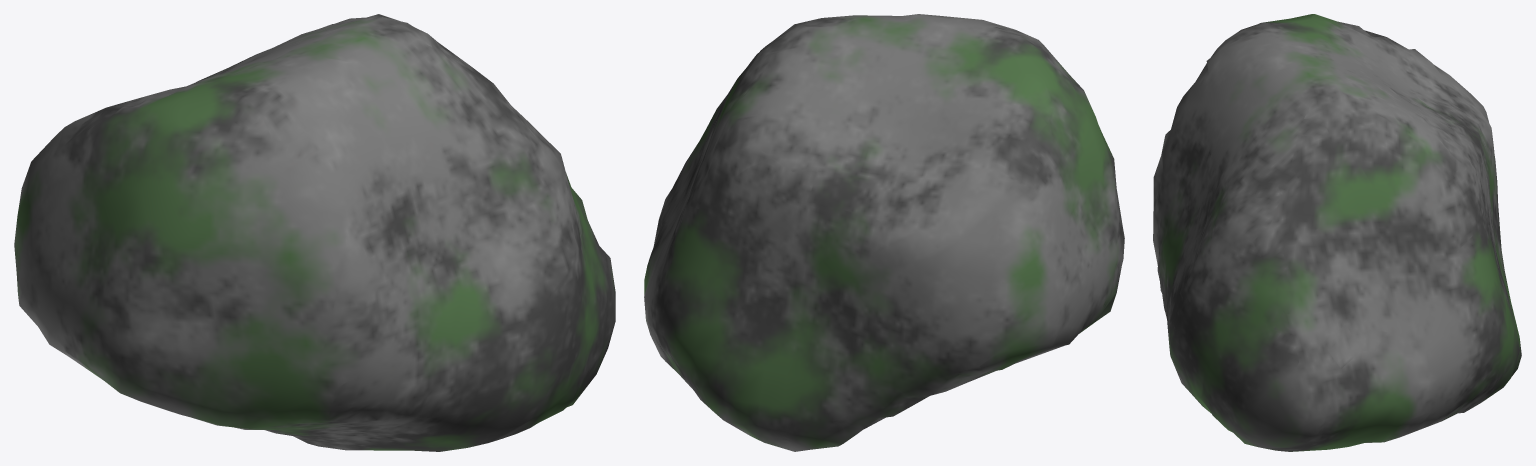
Rendered from RockD.fbx.
3 renders of one model, left to right at view 1: azimuth 30°, elevation 25°; view 2: azimuth 150°, elevation 25°; view 3: azimuth 270°, elevation 25°, orthographic. The views are drawn at different scales.
Visible parts, largest first — view 1: RockD; view 2: RockD; view 3: RockD.
Boxes of the visible parts, x1,y1,x2,y2 form: RockD: (14, 14, 615, 451); RockD: (644, 14, 1124, 451); RockD: (1153, 14, 1521, 451).
Bounding box in the file's own units: 15.08 × 14.74 × 19.56.
1 material, 1 textured.
